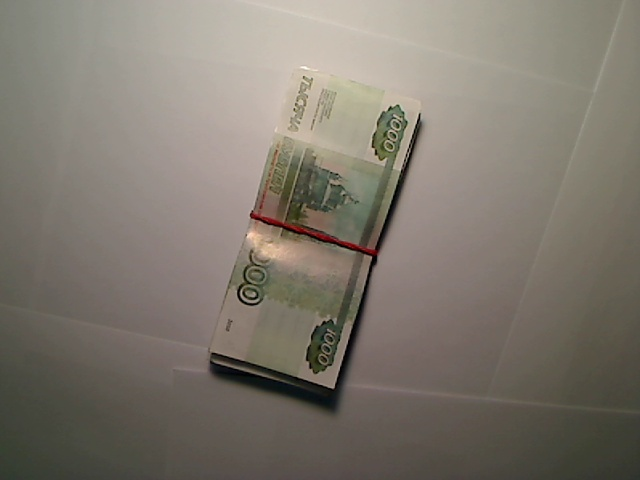banknotes: (205, 62, 426, 402)
